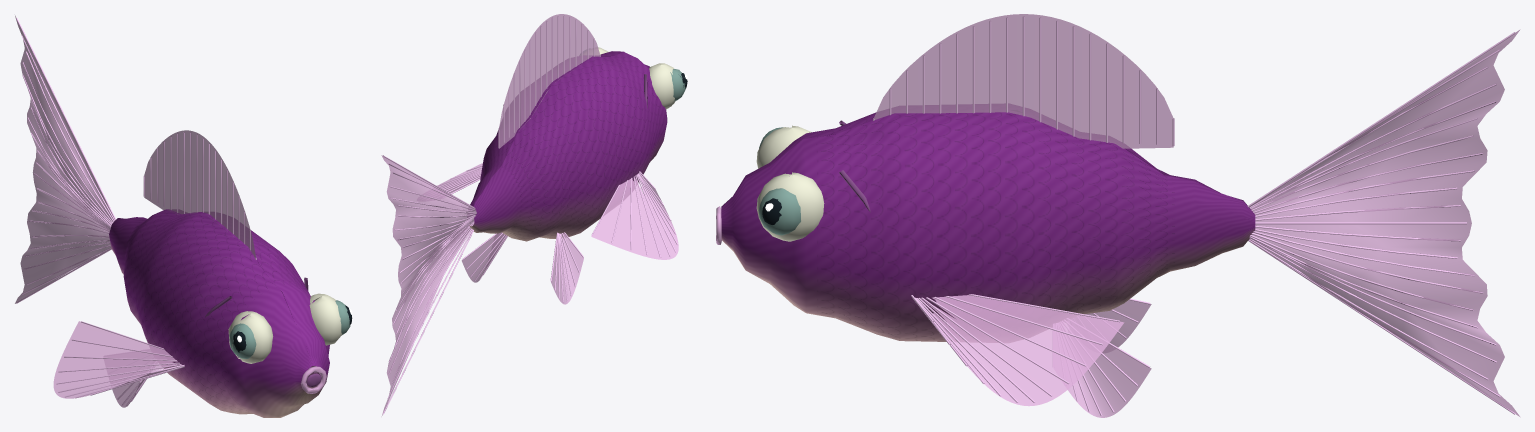
The model's file is orchid-lite.glb.
3 views of the same model, side by side, from view 1: azimuth 30°, elevation 25°; view 2: azimuth 150°, elevation 25°; view 3: azimuth 270°, elevation 25° (orthographic). The views are drawn at different scales.
Parts seen in each view (by area): view 1: Body, TailPivot membrane, DorsalPivot membrane, PectoralPivot-1 membrane, Eye sclera.001, Eye sclera, Iris, TailPivot ray.022, VentralPivot-1 membrane, Mouth rim, TailPivot ray.021, TailPivot ray.020 (+2 smaller); view 2: Body, TailPivot membrane, DorsalPivot membrane, PectoralPivot-1 membrane, VentralPivot-1 membrane, VentralPivot1 membrane, Eye sclera, PectoralPivot1 membrane, TailPivot ray, Iris, TailPivot ray.001; view 3: Body, TailPivot membrane, DorsalPivot membrane, PectoralPivot1 membrane, VentralPivot1 membrane, Eye sclera.001, Iris.001, VentralPivot-1 membrane, Eye sclera, TailPivot ray.022.
Boxes of the visible parts, x1,y1,x2,y2 form: Body: (109,209,329,417); TailPivot membrane: (15,15,113,303); DorsalPivot membrane: (144,130,255,257); PectoralPivot-1 membrane: (53,321,177,398); Eye sclera.001: (309,293,342,345); Eye sclera: (228,311,273,363); Iris: (229,323,256,358); TailPivot ray.022: (16,18,115,220); VentralPivot-1 membrane: (112,379,144,407); Mouth rim: (301,366,326,393); TailPivot ray.021: (21,35,114,220); TailPivot ray.020: (26,51,113,222); Body: (467,51,667,241); TailPivot membrane: (381,155,474,416); DorsalPivot membrane: (499,14,600,148); PectoralPivot-1 membrane: (591,174,678,259); VentralPivot-1 membrane: (551,233,583,304); VentralPivot1 membrane: (461,232,506,282); Eye sclera: (649,63,675,109); PectoralPivot1 membrane: (438,163,482,193); TailPivot ray: (383,229,473,414); Iris: (670,69,685,101); TailPivot ray.001: (387,229,472,398); Body: (721,104,1255,342); TailPivot membrane: (1249,29,1520,417); DorsalPivot membrane: (873,14,1173,148); PectoralPivot1 membrane: (922,295,1124,406); VentralPivot1 membrane: (1067,344,1151,417); Eye sclera.001: (756,172,824,241); Iris.001: (758,188,800,235); VentralPivot-1 membrane: (1085,300,1151,347); Eye sclera: (756,125,811,168); TailPivot ray.022: (1247,32,1515,207).
Size of the model in its own units: 1.59 by 1.64 by 2.95.
9 materials, 1 textured.
